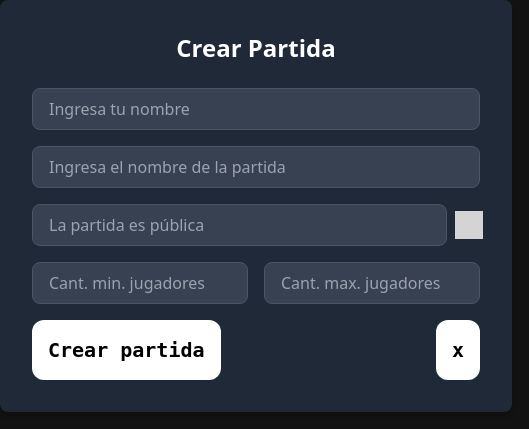
Test: CreateGameForm › handles lock and unlock state correctly
Expected: the field with placeholder "La partida es pública" is disabled, [32,204,447,246]
Click the button named "Icono de candado". click: (463, 225)
box: [447,204,480,246]
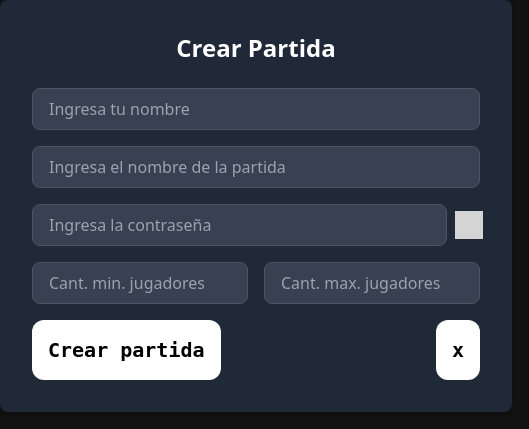
Expected: the field with placeholder "La partida es pública" is enabled, [32,204,447,246]
Click the button named "Icono de candado". click: (463, 225)
box: [447,204,480,246]
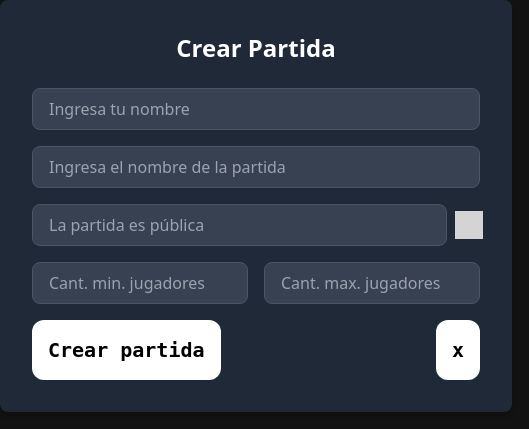
Expected: the field with placeholder "La partida es pública" is disabled, [32,204,447,246]
